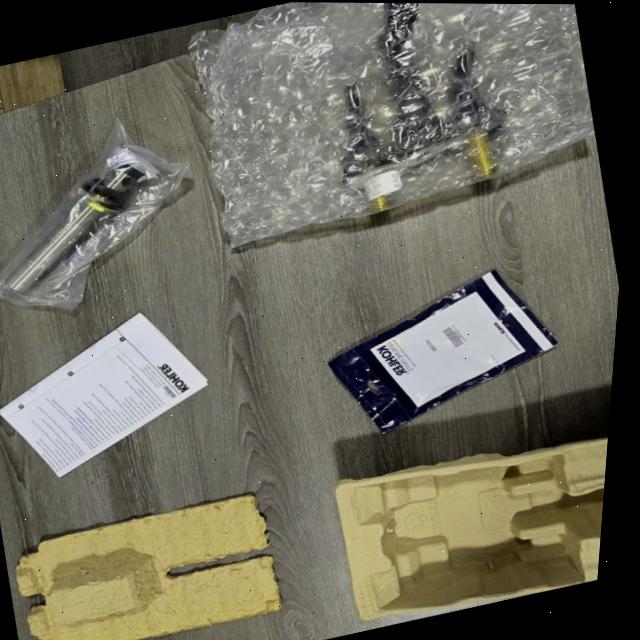11: (0, 119, 187, 308)
12: (328, 268, 556, 432)
8: (0, 312, 207, 476)
9c: (189, 2, 594, 244)
